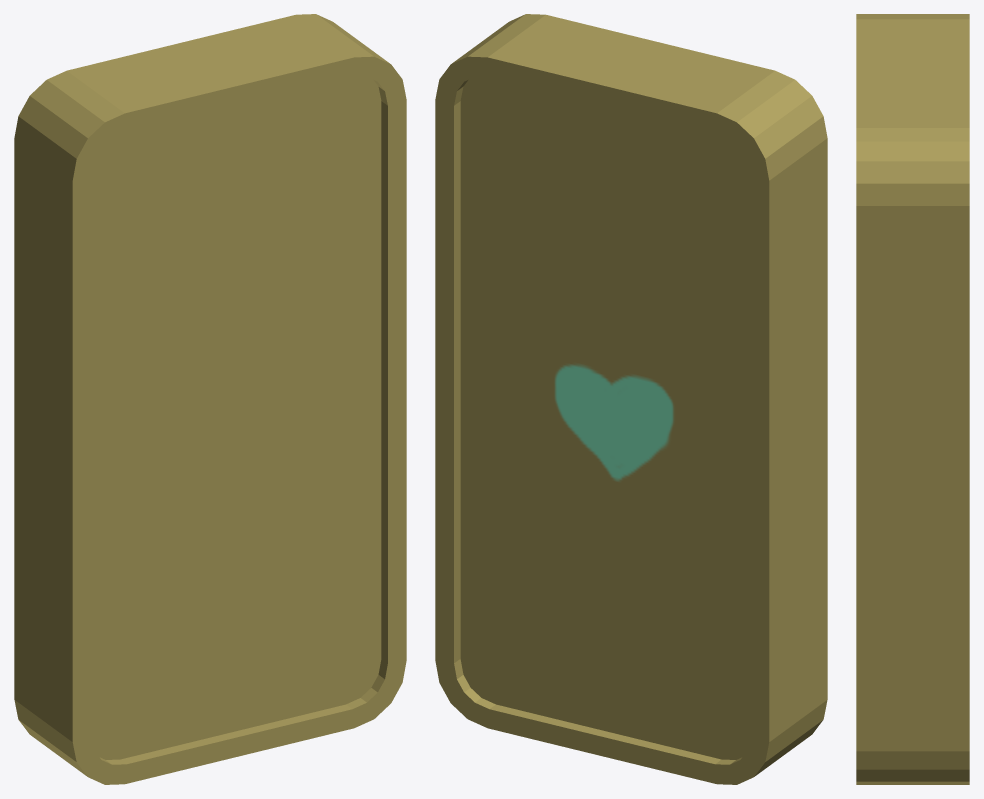
File: domino2.glb
3 renders of one model, left to right at view 1: azimuth 30°, elevation 25°; view 2: azimuth 150°, elevation 25°; view 3: azimuth 270°, elevation 25°, orthographic. The views are drawn at different scales.
Visible parts, largest first — view 1: Cube; view 2: Cube; view 3: Cube.
Part boxes in pixels (left/top/right/bottom): Cube: left=14, top=14, right=406, bottom=784; Cube: left=435, top=14, right=827, bottom=784; Cube: left=856, top=14, right=969, bottom=784.
Size of the model in its own units: 0.5929 by 1.14 by 0.1795.
Materials: 1 (1 with a texture image).
